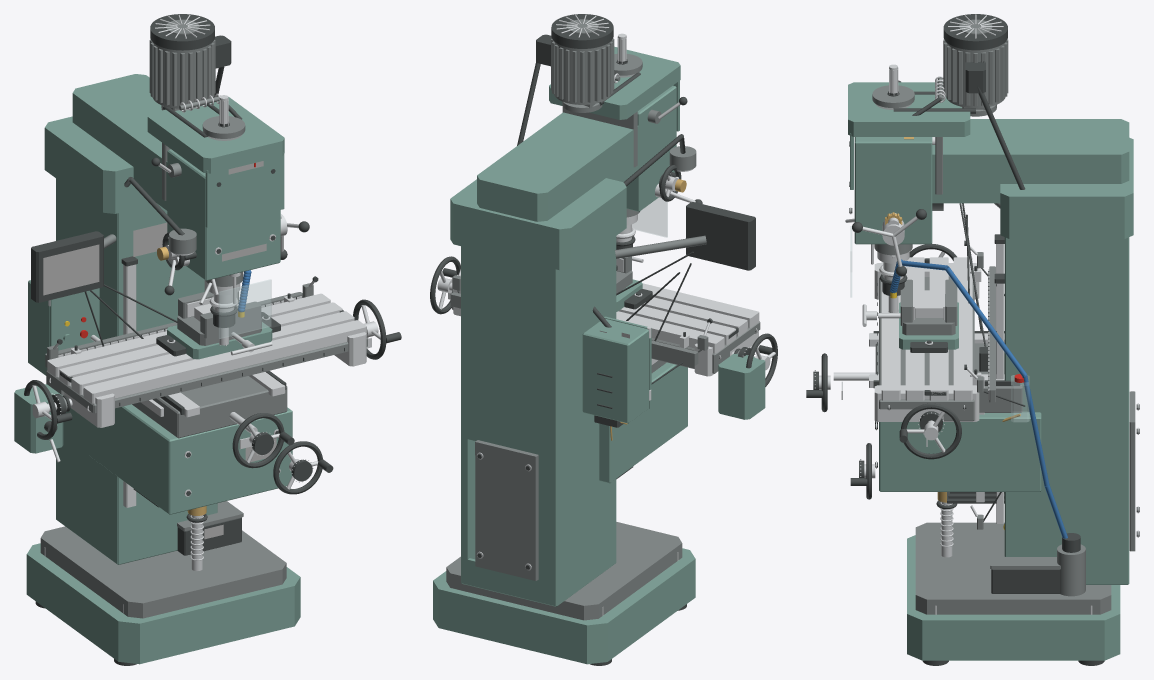
The model's file is fresadora-07.glb.
3 views of the same model, side by side, from view 1: azimuth 30°, elevation 25°; view 2: azimuth 150°, elevation 25°; view 3: azimuth 270°, elevation 25° (orthographic). The views are drawn at different scales.
Parts seen in each view (by area): view 1: coluna__4, cabecote__1, base__4, joelho__1, refrigeracao__7, mesa__2, tampa_transmissao__1, carro_y__3, tampa_cabecote_frontal__1, motor__2, mesa__3, protetor_cavacos__2 (+27 smaller); view 2: coluna__4, cabecote__1, base__4, porta_coluna__2, refrigeracao__7, painel_eletrico__14, joelho__1, mesa__2, dro__1, motor__2, tampa_transmissao__1, fuso_x__4 (+12 smaller); view 3: coluna__4, cabecote__1, base__4, joelho__1, refrigeracao__7, mesa__2, tampa_transmissao__1, motor__2, fuso_x__1, mesa__3, refrigeracao__4, refrigeracao__5 (+21 smaller).
Boxes of the visible parts, <box> form: coluna__4: <box>44,116,217,564</box>; cabecote__1: <box>72,74,280,280</box>; base__4: <box>26,543,300,664</box>; joelho__1: <box>88,404,292,514</box>; refrigeracao__7: <box>40,526,286,618</box>; mesa__2: <box>47,293,366,403</box>; tampa_transmissao__1: <box>147,97,284,173</box>; carro_y__3: <box>132,376,287,438</box>; tampa_cabecote_frontal__1: <box>205,152,284,227</box>; motor__2: <box>149,39,215,110</box>; mesa__3: <box>46,338,367,413</box>; protetor_cavacos__2: <box>219,279,271,338</box>; coluna__4: <box>450,178,626,606</box>; cabecote__1: <box>477,85,676,221</box>; base__4: <box>433,548,695,664</box>; porta_coluna__2: <box>475,440,538,580</box>; refrigeracao__7: <box>446,522,682,620</box>; painel_eletrico__14: <box>582,318,649,423</box>; joelho__1: <box>599,362,687,483</box>; mesa__2: <box>616,283,759,353</box>; dro__1: <box>686,202,756,331</box>; motor__2: <box>551,38,614,108</box>; tampa_transmissao__1: <box>549,46,680,119</box>; fuso_x__4: <box>718,353,765,419</box>; coluna__4: <box>1000,137,1133,584</box>; cabecote__1: <box>854,119,1129,244</box>; base__4: <box>907,535,1120,660</box>; joelho__1: <box>879,412,1041,491</box>; refrigeracao__7: <box>915,522,1111,614</box>; mesa__2: <box>881,257,972,400</box>; tampa_transmissao__1: <box>848,82,970,136</box>; motor__2: <box>943,39,1008,109</box>; fuso_x__1: <box>899,203,1025,459</box>; mesa__3: <box>879,277,974,421</box>; refrigeracao__4: <box>890,259,1067,538</box>; refrigeracao__5: <box>991,428,1139,593</box>.
Bounding box in the file's own units: 1.82 × 2.97 × 1.5.
